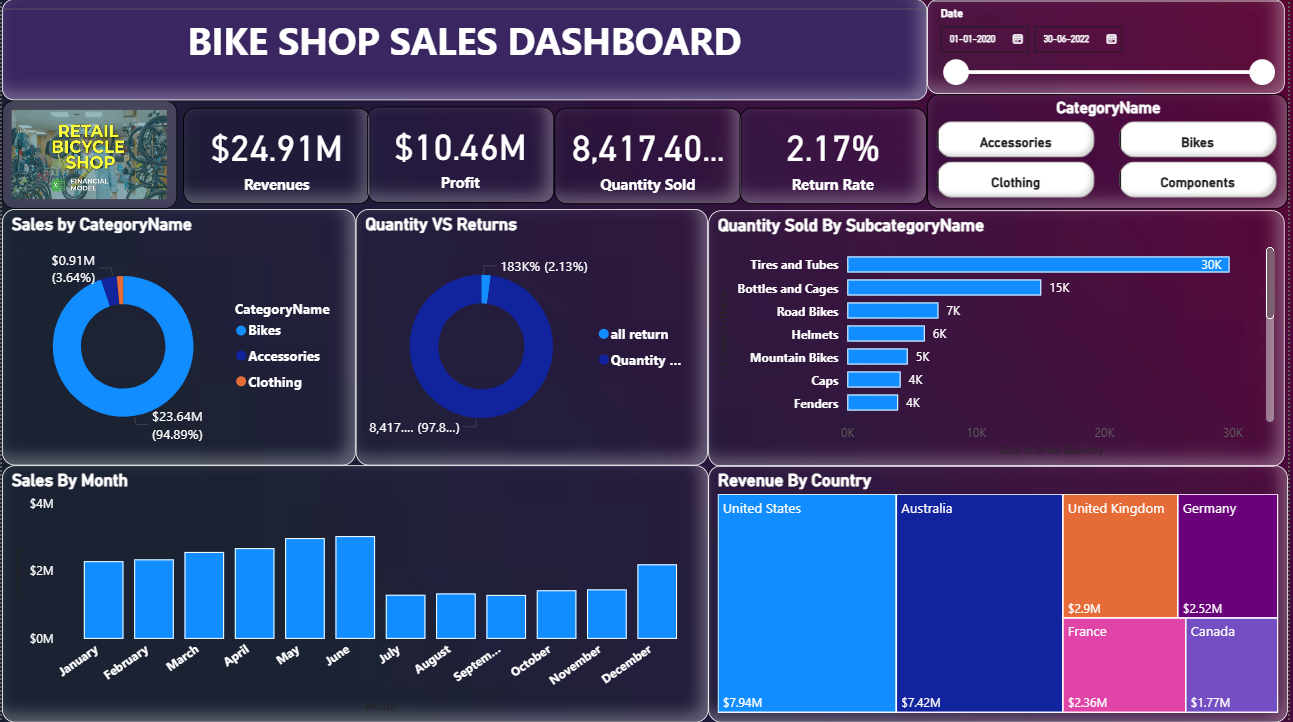

What the dashboard file says about the page in this screenshot:
{"tool":"powerbi","page":{"name":"DASHBORAD","canvas":[1280,720],"ordinal":3},"visuals":[{"type":"image","box":[0,100.8,174.2,108.2],"z":0},{"type":"textbox","box":[0,0,920.5,100.8],"z":1000},{"type":"card","fields":{"Values":["Measure Table (DAX).Revenues"]},"box":[180.4,108.2,186.6,95.8],"z":2000},{"type":"card","fields":{"Values":["Measure Table (DAX).Profit"]},"box":[363.2,108.2,186.6,94.5],"z":3000},{"type":"card","fields":{"Values":["Measure Table (DAX).Quantity Sold"]},"box":[549.8,108.2,186.6,95.8],"z":4000},{"type":"card","fields":{"Values":["Measure Table (DAX).Return Rate"]},"box":[733.9,108.2,186.6,95.8],"z":5000},{"type":"advancedSlicerVisual","fields":{"Values":["Product Categories Lookup.CategoryName"]},"box":[920.5,94.5,359.5,114.4],"z":6000},{"type":"slicer","fields":{"Values":["Calendar Lookup.Date"]},"box":[920.5,0,355.8,94.5],"z":7000},{"type":"donutChart","fields":{"Y":["Measure Table (DAX).Revenues"],"Category":["Product Categories Lookup.CategoryName"]},"box":[0,209,352,255],"z":8000},{"type":"donutChart","title":"Quantity VS Returns","fields":{"Y":["Measure Table (DAX).all return","Measure Table (DAX).Quantity Sold"]},"box":[352,209,350.8,255],"z":8001},{"type":"lineStackedColumnComboChart","title":"Sales By Month","fields":{"Y":["Measure Table (DAX).Revenues"],"Category":["Calendar Lookup.Date.Variation.Date Hierarchy.Month"]},"box":[0,464,702.8,256],"z":8003},{"type":"treemap","title":"Revenue By Country","fields":{"Group":["Territory Lookup.Country"],"Values":["Measure Table (DAX).Revenues"]},"box":[702.8,464,577.2,256.3],"z":8004},{"type":"barChart","title":"Quantity Sold By SubcategoryName","fields":{"Category":["Product Subcategories Lookup.SubcategoryName"],"Y":["Sum(Sales Record [2020-22].OrderQuantity)"]},"box":[702.8,210.2,573.5,255],"z":8005}]}

Visuals, with their boxes in screenshot pixels (x1, y1, x2, y2), scaled from the page's 1280x720 canvas onto the 1293x722 screenshot:
image: bbox=[0, 101, 176, 210]
textbox: bbox=[0, 0, 930, 101]
card - Measure Table (DAX).Revenues: bbox=[182, 109, 371, 205]
card - Measure Table (DAX).Profit: bbox=[367, 109, 555, 203]
card - Measure Table (DAX).Quantity Sold: bbox=[555, 109, 744, 205]
card - Measure Table (DAX).Return Rate: bbox=[741, 109, 930, 205]
advancedSlicerVisual - Product Categories Lookup.CategoryName: bbox=[930, 95, 1292, 209]
slicer - Calendar Lookup.Date: bbox=[930, 0, 1289, 95]
donutChart - Measure Table (DAX).Revenues x Product Categories Lookup.CategoryName: bbox=[0, 210, 356, 465]
"Quantity VS Returns" donutChart: bbox=[356, 210, 710, 465]
"Sales By Month" lineStackedColumnComboChart: bbox=[0, 465, 710, 721]
"Revenue By Country" treemap: bbox=[710, 465, 1292, 721]
"Quantity Sold By SubcategoryName" barChart: bbox=[710, 211, 1289, 466]
